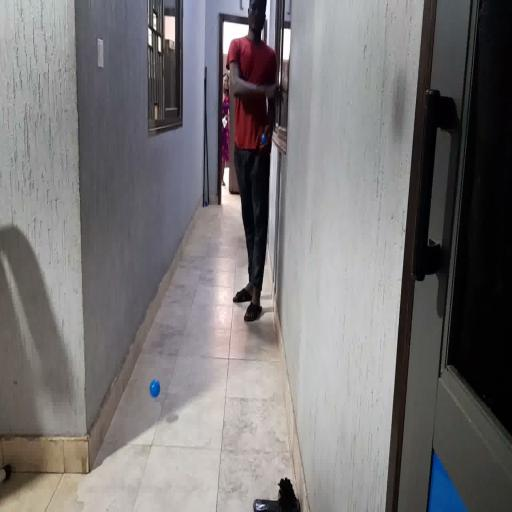plastic-ball: (148, 377, 161, 402)
